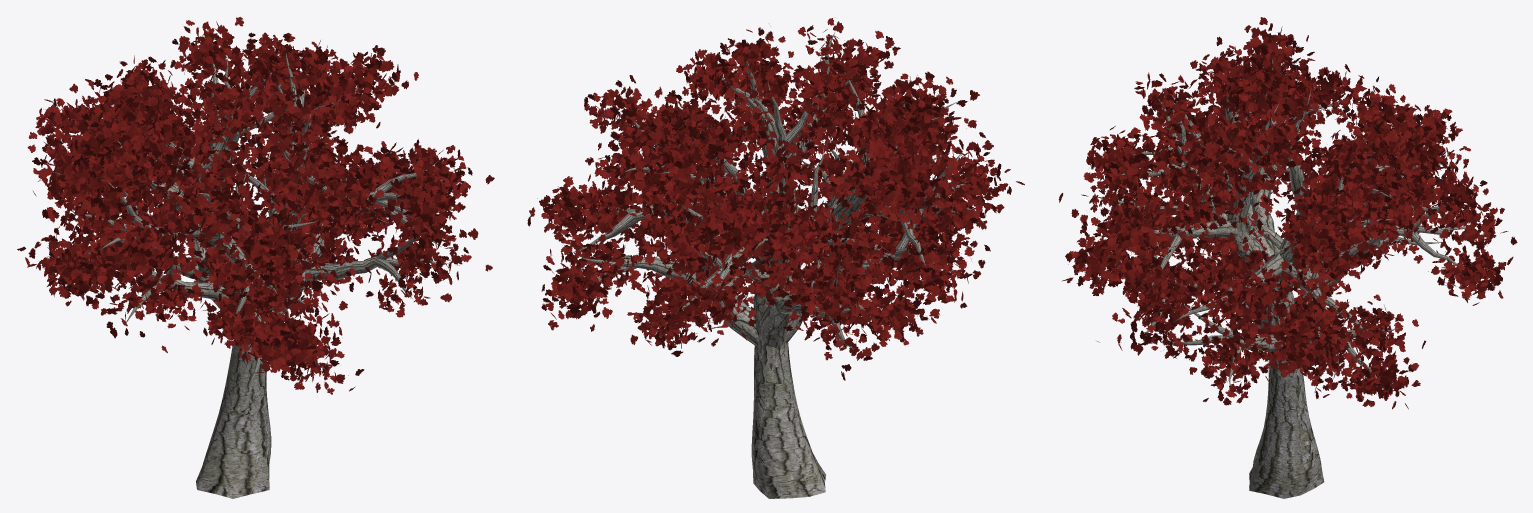
The picture shows the model from 3 angles, left to right: view 1: azimuth 30°, elevation 25°; view 2: azimuth 150°, elevation 25°; view 3: azimuth 270°, elevation 25°; orthographic projection. The views are drawn at different scales.
Visible parts, largest first — view 1: Arce foliage cards, Arce_EasyTree_V021_Proof; view 2: Arce foliage cards, Arce_EasyTree_V021_Proof; view 3: Arce foliage cards, Arce_EasyTree_V021_Proof.
Part boxes in pixels (<box>): Arce foliage cards: <box>17,17,494,394</box>; Arce_EasyTree_V021_Proof: <box>47,41,448,498</box>; Arce foliage cards: <box>527,18,1024,380</box>; Arce_EasyTree_V021_Proof: <box>574,31,982,498</box>; Arce foliage cards: <box>1058,17,1517,409</box>; Arce_EasyTree_V021_Proof: <box>1094,59,1465,498</box>.
Bounding box in the file's own units: 7.14 × 6.86 × 6.94.
2 materials, 2 textured.
